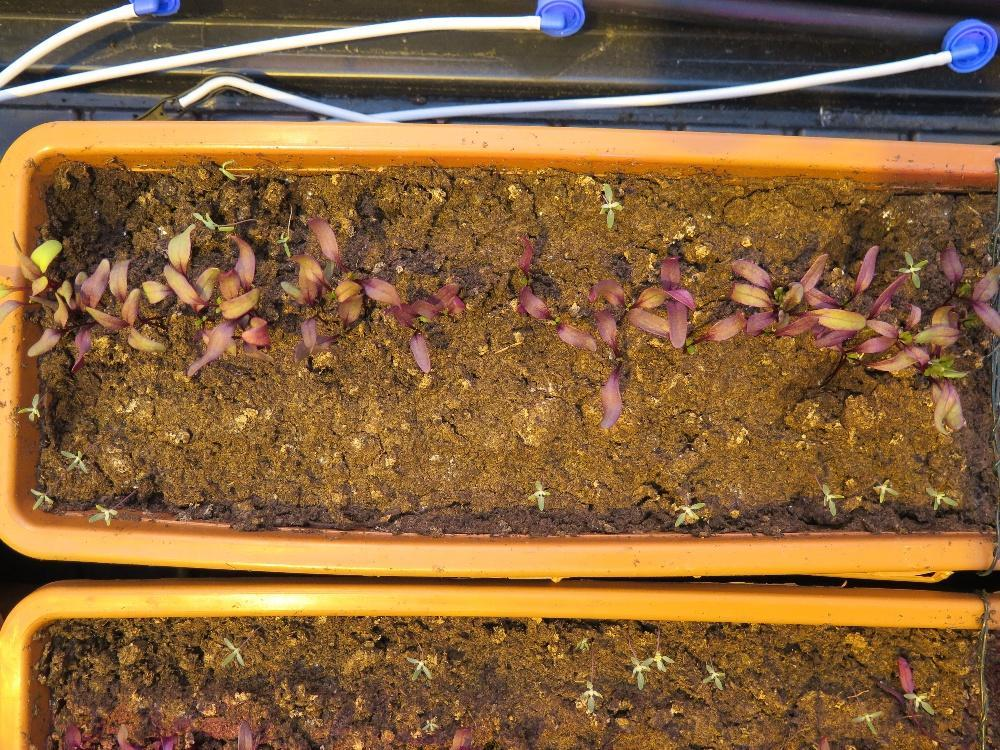weed: (596, 182, 622, 230), (576, 677, 604, 714), (922, 484, 958, 511), (524, 477, 551, 512), (672, 500, 705, 528), (819, 481, 845, 515), (849, 709, 882, 735), (403, 653, 432, 681), (219, 636, 245, 667), (59, 447, 88, 474), (15, 391, 39, 423), (699, 661, 725, 690), (86, 502, 117, 525), (871, 477, 898, 503), (28, 485, 53, 510), (274, 228, 290, 257), (420, 716, 438, 733), (573, 634, 589, 653)
